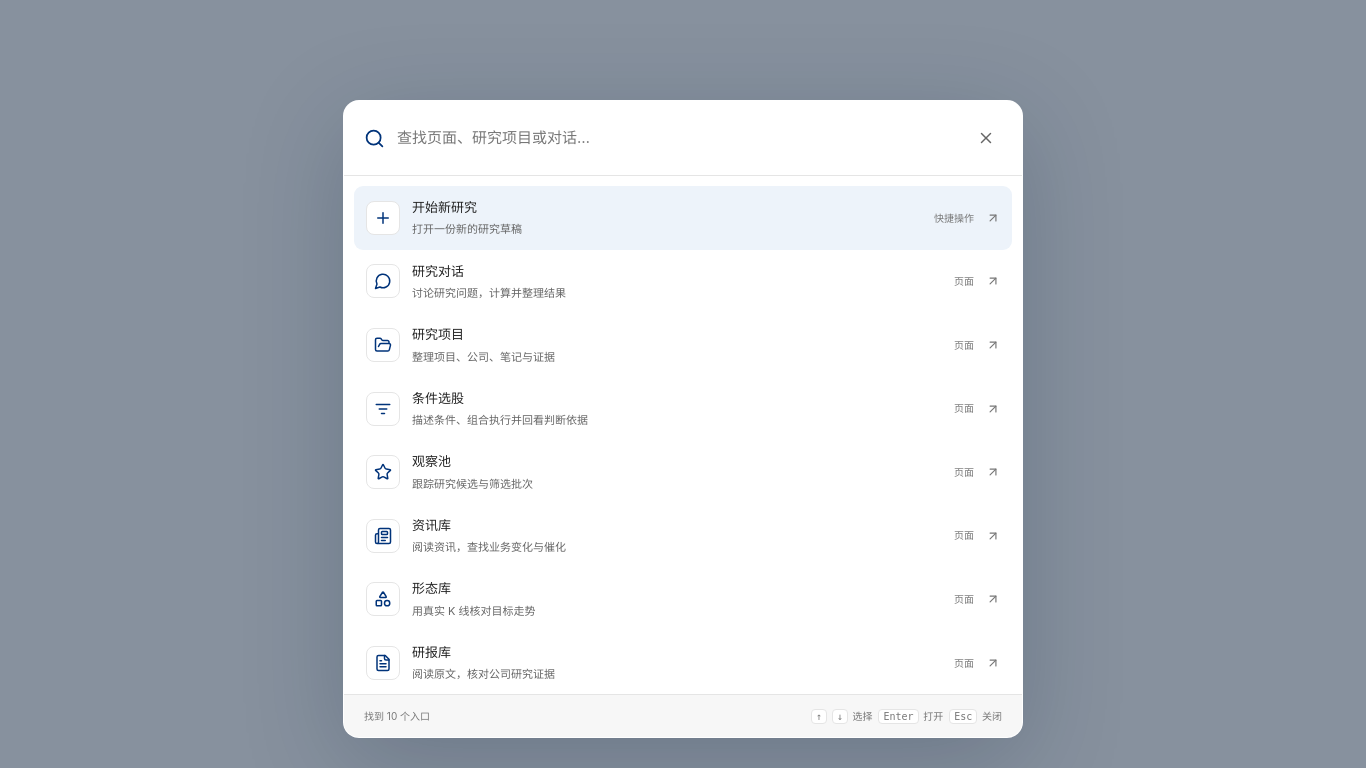
does not offer the removed built-in reference page, including search
Check: the option "内置指标参考" is not shown
Type "内置指标参考" into the dropdown at (678, 138), box [397,118,958,158]
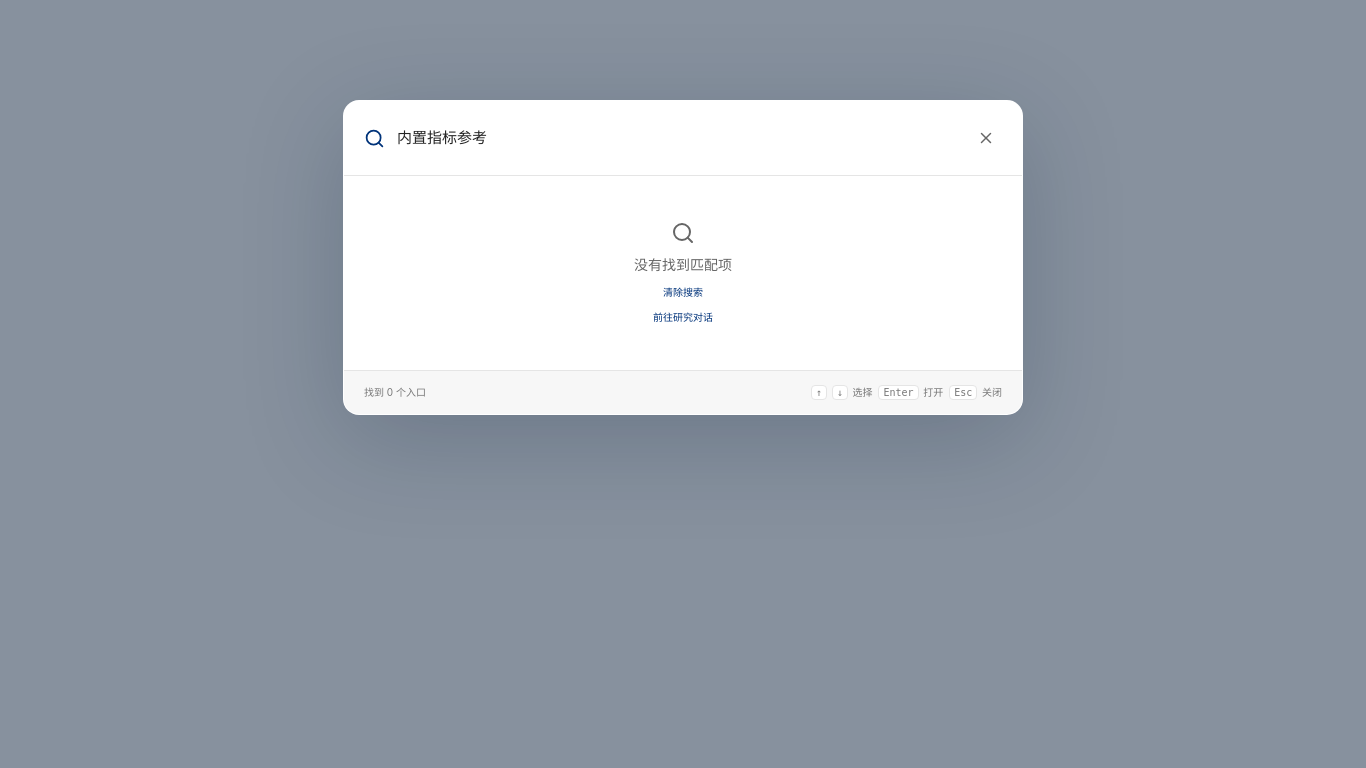
Check: the option is gone
Press Enter
Click the button "清除搜索" at (683, 292), box [663,284,703,301]
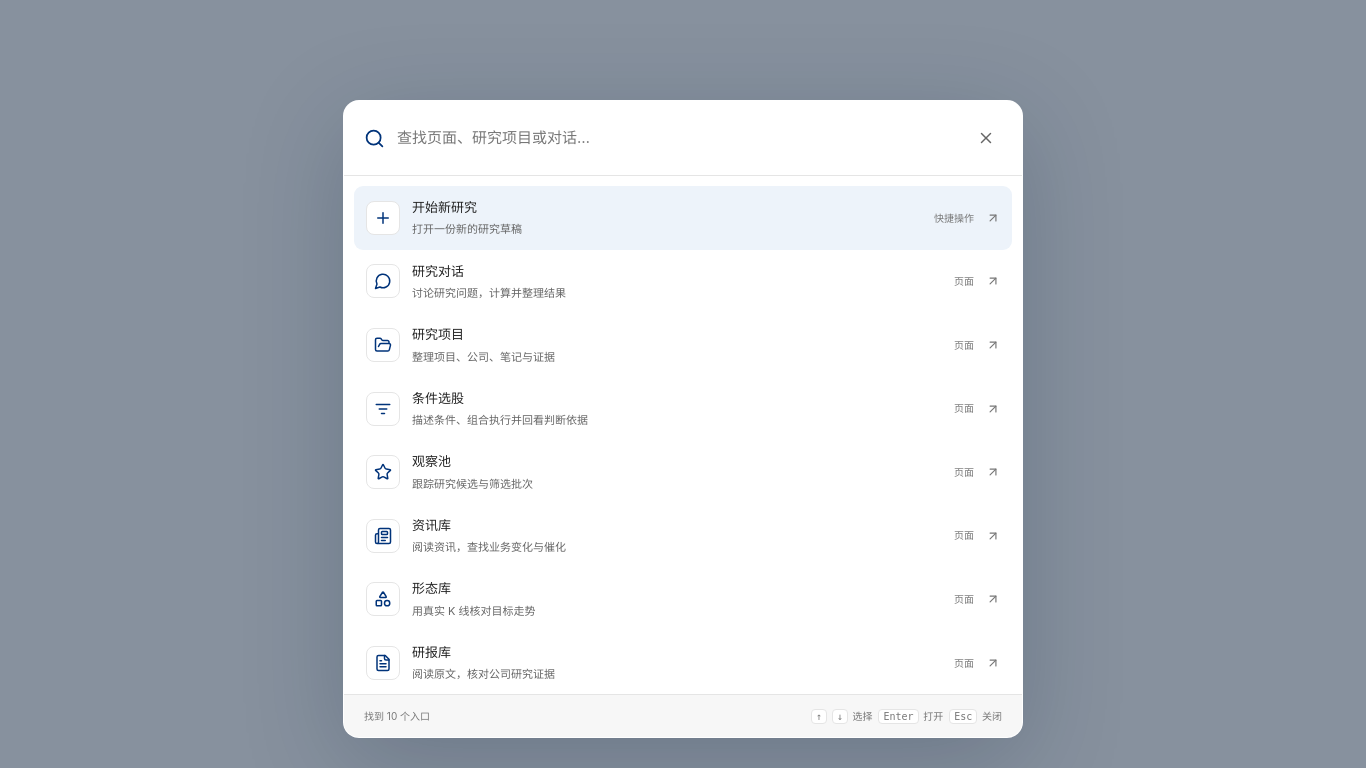
Check: the option "研报库 阅读原文，核对公司研究证据 页面" is shown, box [366,644,1000,681]
